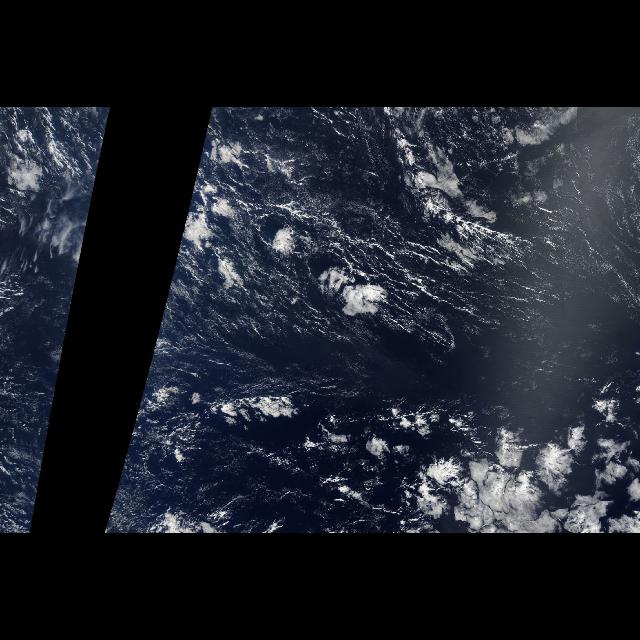Flower: (309, 380, 631, 526)
Gravel: (176, 110, 518, 336)
Sugar: (148, 316, 398, 394), (564, 118, 638, 312), (4, 292, 68, 516)
